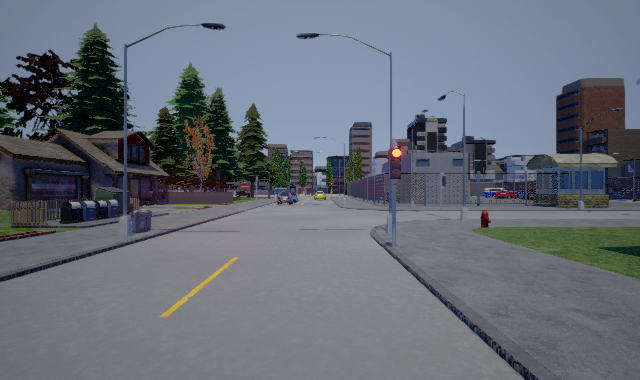traffic_light: (390, 147, 402, 179)
vehicle: (277, 192, 293, 205), (314, 189, 325, 199)
